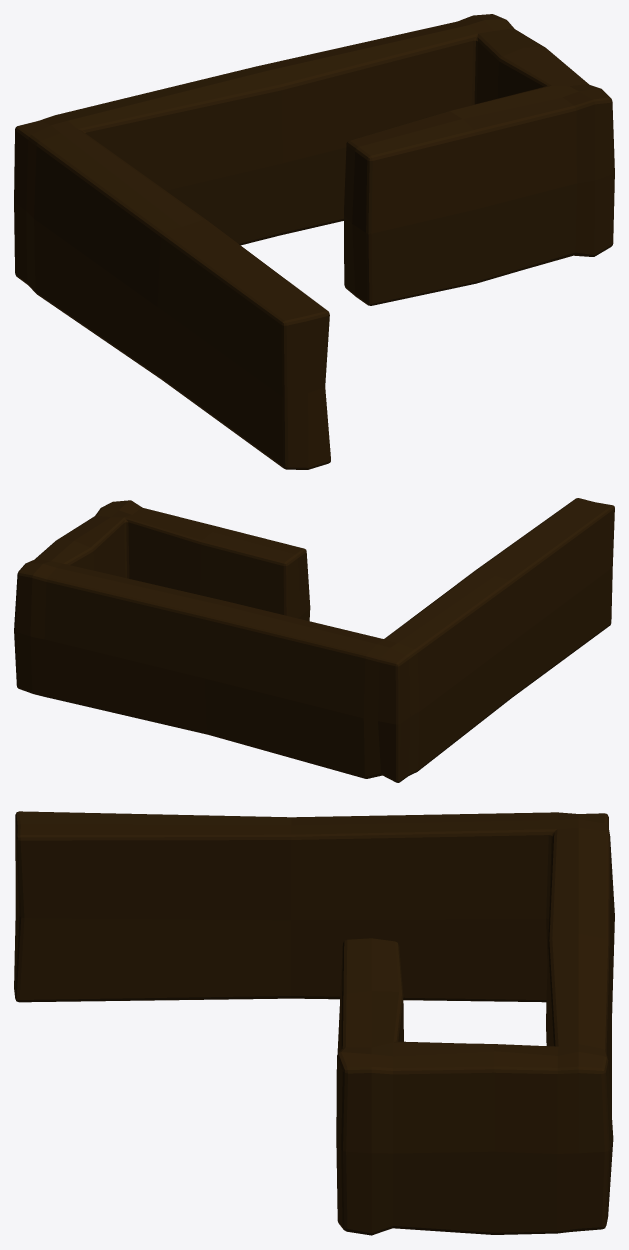
The model's file is Wall piece 16.fbx.
3 views of the same model, one above another, from view 1: azimuth 30°, elevation 25°; view 2: azimuth 150°, elevation 25°; view 3: azimuth 270°, elevation 25° (orthographic). The views are drawn at different scales.
Visible parts, largest first — view 1: wall piece 16O; view 2: wall piece 16O; view 3: wall piece 16O.
Boxes of the visible parts, x1,y1,x2,y2 form: wall piece 16O: (14, 14, 614, 469); wall piece 16O: (14, 498, 614, 782); wall piece 16O: (14, 811, 614, 1235).
Size of the model in its own units: 1465 by 1424 by 468.
